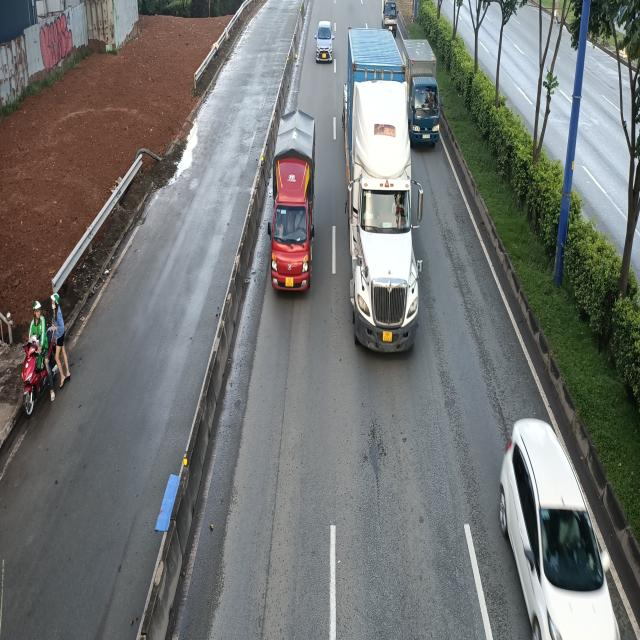car: (498, 419, 614, 640), (315, 19, 335, 62)
container: (346, 28, 429, 353)
truck: (266, 112, 316, 296), (402, 35, 442, 148), (380, 0, 399, 32)
